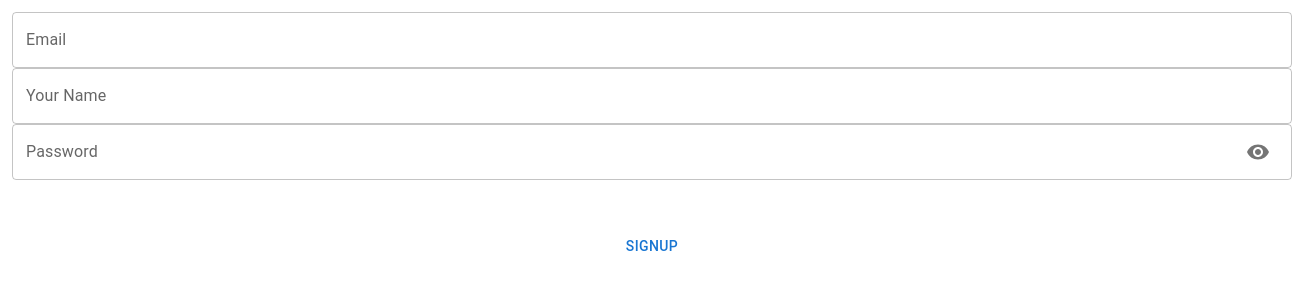
auth form › shows name validation error on sign up
In the field labelled "Email": (652, 40) [12,12,1292,68], type "asd@mail.ru"
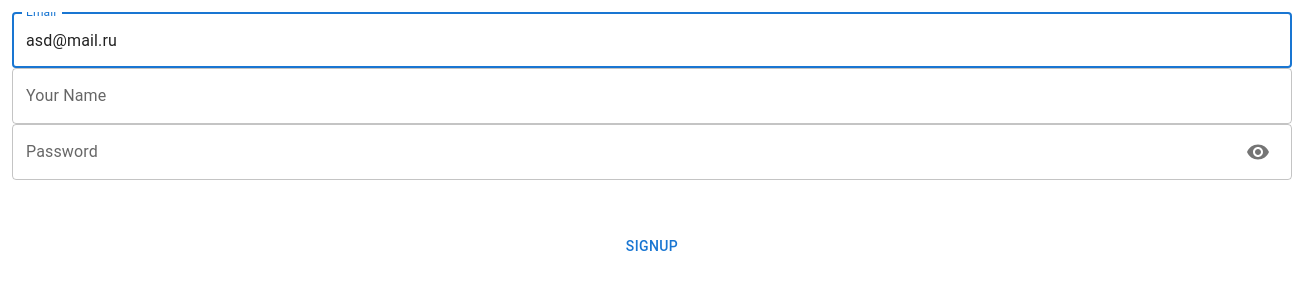
In the password field labelled "Password": (621, 152) [12,124,1230,180], type "Aa123456"
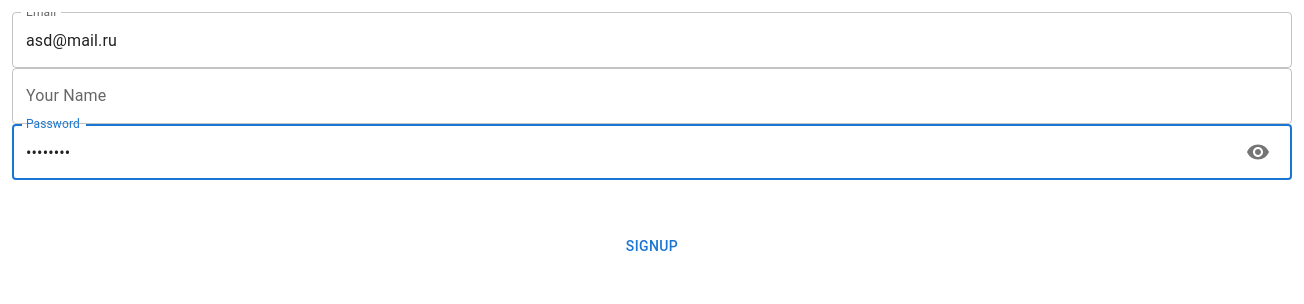
Click the button with test id "sendBtn": (652, 246) [12,228,1292,264]
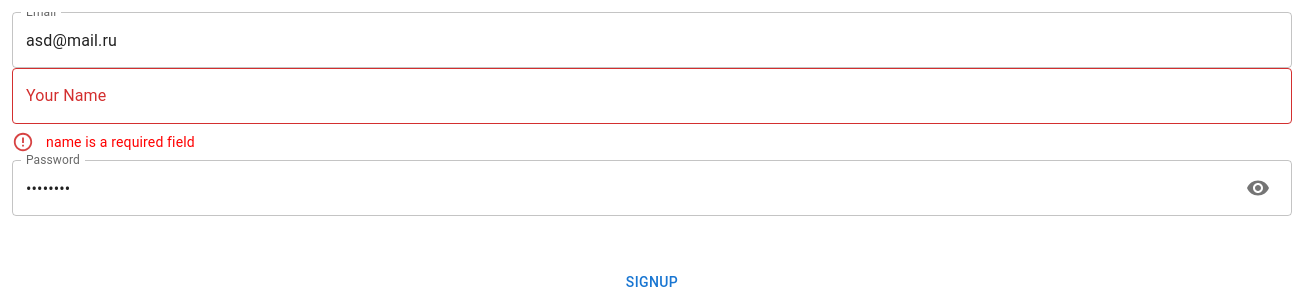
Expected: the text "name is a required field" is shown, [46,134,195,150]
